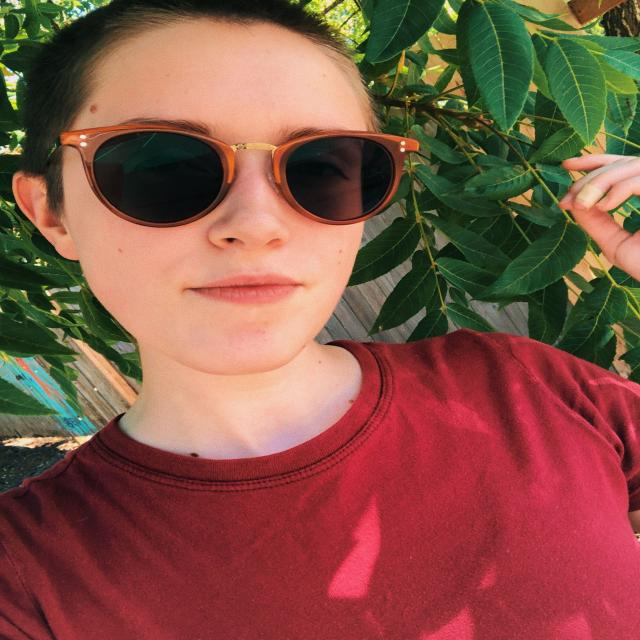2_gafas: (46, 124, 420, 228)
